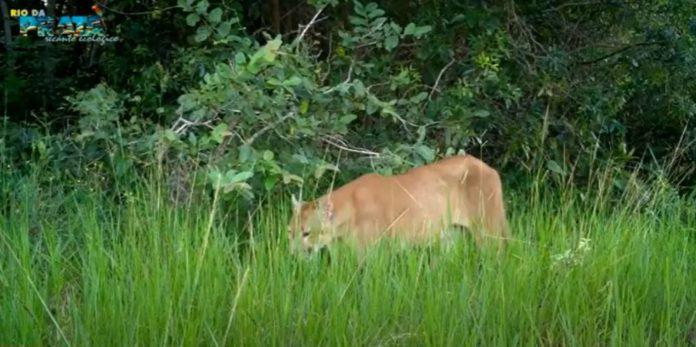OncaParda: (280, 151, 512, 261)
